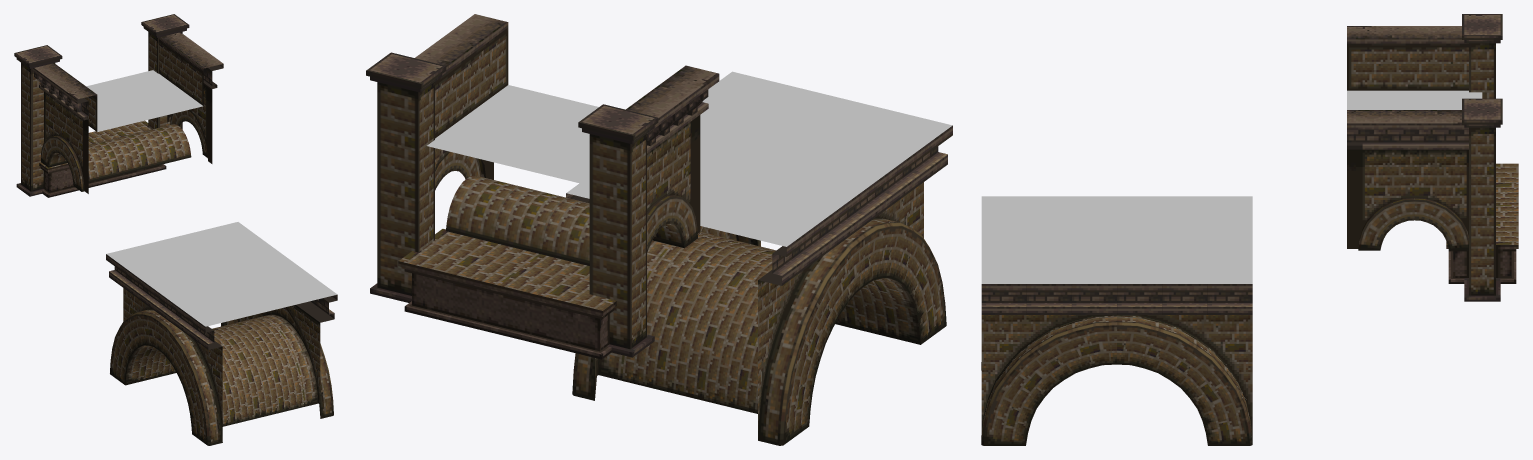
The model's file is EnvMdrMD_Sea_Aqueduct_A_Arch_A.FBX.
3 renders of one model, left to right at view 1: azimuth 30°, elevation 25°; view 2: azimuth 150°, elevation 25°; view 3: azimuth 270°, elevation 25°, orthographic. The views are drawn at different scales.
Visible parts, largest first — view 1: EnvMdrMD_Sea_Aqueduct_A_Arch_A, EnvMdrMD_Sea_Aqueduct_A_Arch_B; view 2: EnvMdrMD_Sea_Aqueduct_A_Arch_B, EnvMdrMD_Sea_Aqueduct_A_Arch_A; view 3: EnvMdrMD_Sea_Aqueduct_A_Arch_A, EnvMdrMD_Sea_Aqueduct_A_Arch_B.
Boxes of the visible parts, x1,y1,x2,y2 form: EnvMdrMD_Sea_Aqueduct_A_Arch_A: (106, 222, 337, 445); EnvMdrMD_Sea_Aqueduct_A_Arch_B: (14, 14, 223, 197); EnvMdrMD_Sea_Aqueduct_A_Arch_B: (366, 14, 719, 359); EnvMdrMD_Sea_Aqueduct_A_Arch_A: (566, 71, 952, 445); EnvMdrMD_Sea_Aqueduct_A_Arch_A: (981, 196, 1252, 445); EnvMdrMD_Sea_Aqueduct_A_Arch_B: (1347, 14, 1518, 301).
Bounding box in the file's own units: 557 × 845 × 1189.
